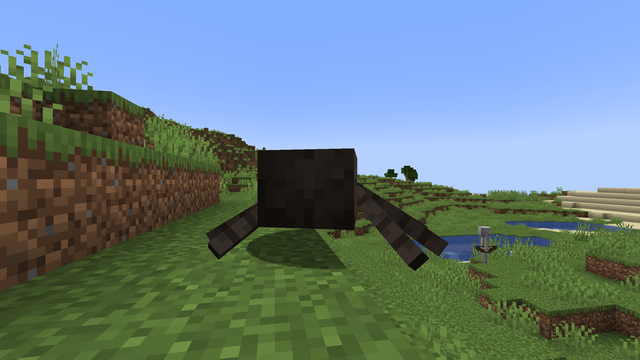araignees: (244, 138, 432, 271)
squelettes: (475, 226, 493, 264)
